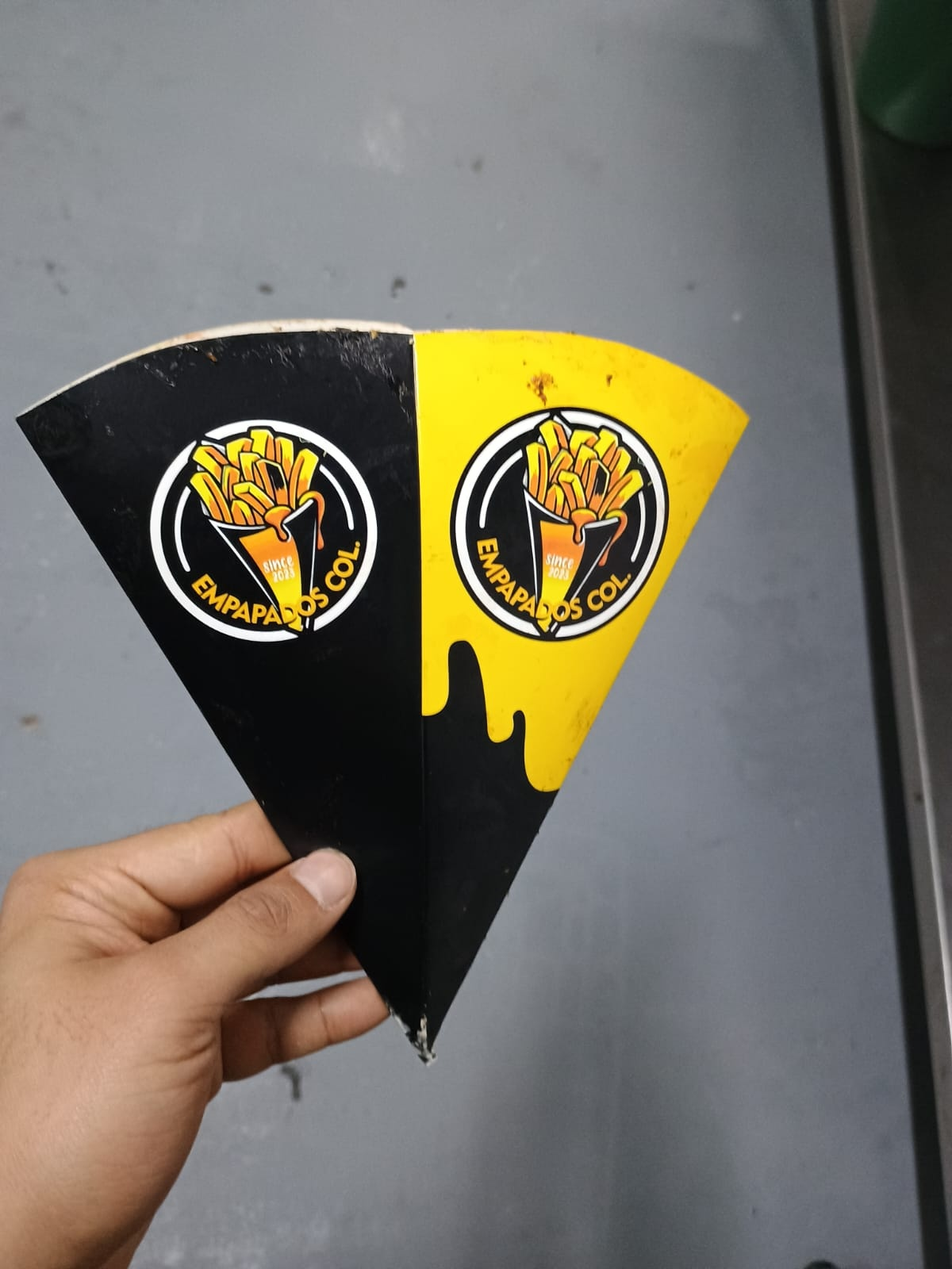Carton: (18, 322, 747, 1060)
